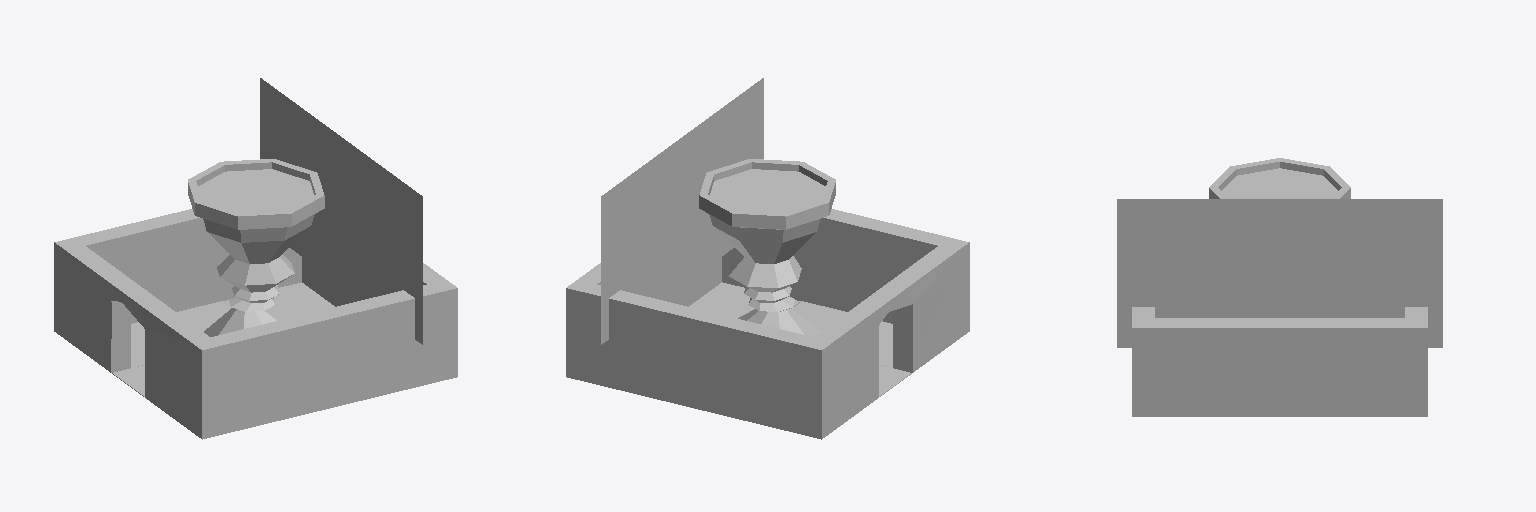
The model's file is Tiles.obj.
The picture shows the model from 3 angles: view 1: azimuth 30°, elevation 25°; view 2: azimuth 150°, elevation 25°; view 3: azimuth 270°, elevation 25°; orthographic projection.
Parts seen in each view (by area): view 1: porta_quadrupla, Prospective, Calice, porta_corridoio, porta_angolo_Sbl; view 2: porta_quadrupla, Prospective, Calice, porta_corridoio, porta_angolo_Sbl; view 3: Prospective, porta_quadrupla, porta_tripla, Calice.
Boxes of the visible parts, x1=… form: porta_quadrupla: x1=54, y1=209, x2=457, y2=439; Prospective: x1=260, y1=78, x2=422, y2=344; Calice: x1=188, y1=159, x2=324, y2=336; porta_corridoio: x1=67, y1=218, x2=359, y2=415; porta_angolo_Sbl: x1=111, y1=294, x2=437, y2=434; porta_quadrupla: x1=566, y1=209, x2=969, y2=439; Prospective: x1=601, y1=78, x2=763, y2=344; Calice: x1=699, y1=159, x2=835, y2=336; porta_corridoio: x1=664, y1=219, x2=902, y2=415; porta_angolo_Sbl: x1=722, y1=218, x2=957, y2=372; Prospective: x1=1117, y1=199, x2=1442, y2=347; porta_quadrupla: x1=1132, y1=307, x2=1427, y2=416; porta_tripla: x1=1246, y1=321, x2=1313, y2=416; Calice: x1=1209, y1=158, x2=1350, y2=198.
Size of the model in its own units: 18.02 by 13.24 by 19.83.